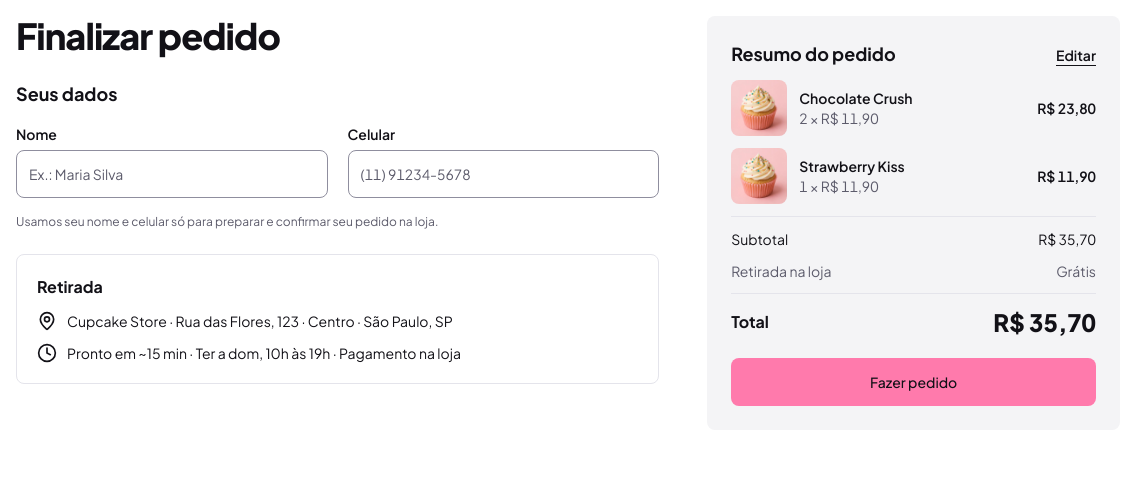
Test: US-19 stock changes during checkout › AC3: tells which product is no longer available
Expected: the heading "Resumo do pedido" is shown, 731,40 -> 896,68
Type "Ana Souza" into the field labelled "Nome" at (172, 174), box 16,150 -> 328,198
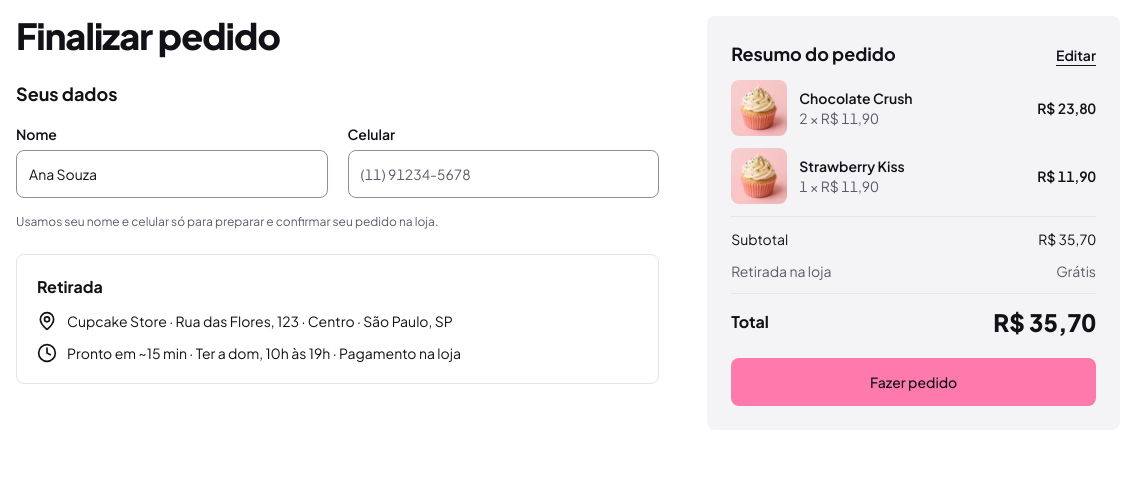
Type "11912345678" into the field labelled "Celular" at (503, 174), box 348,150 -> 659,198
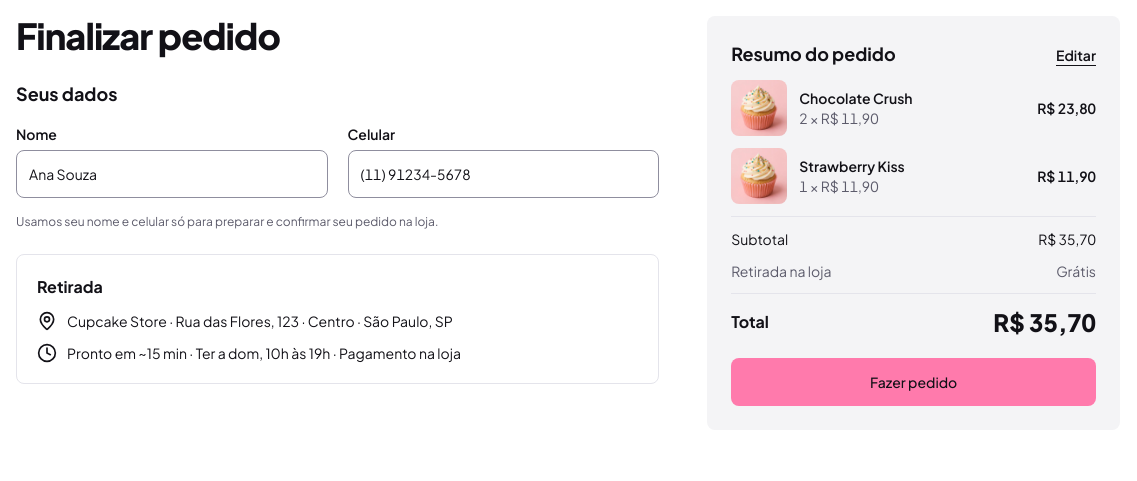
Click the button "Fazer pedido" at (914, 382), box 731,358 -> 1096,406
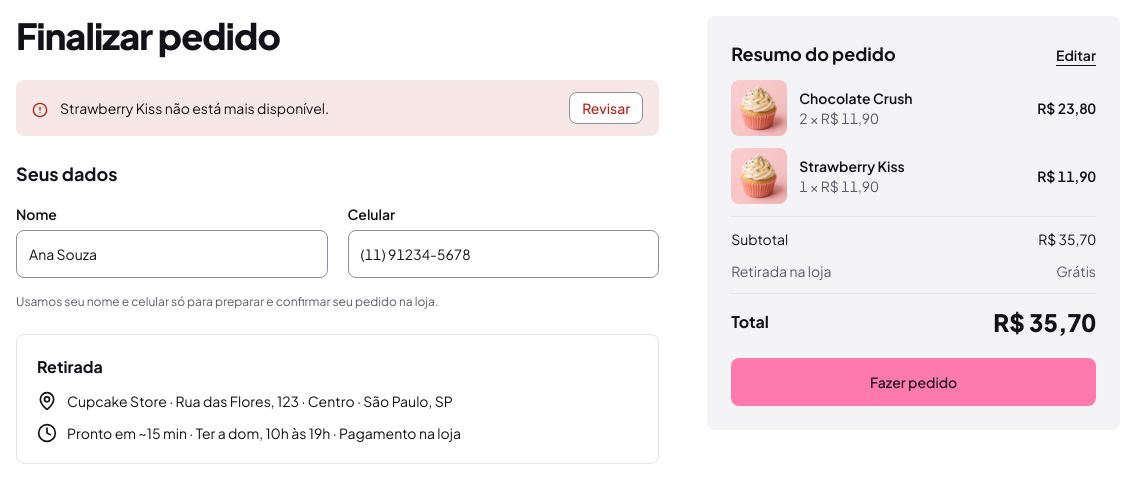
Expected: the message shows "Strawberry Kiss não está mais disponível.", 60,99 -> 329,117
Expected: the link "Revisar" is shown, 569,92 -> 643,124
